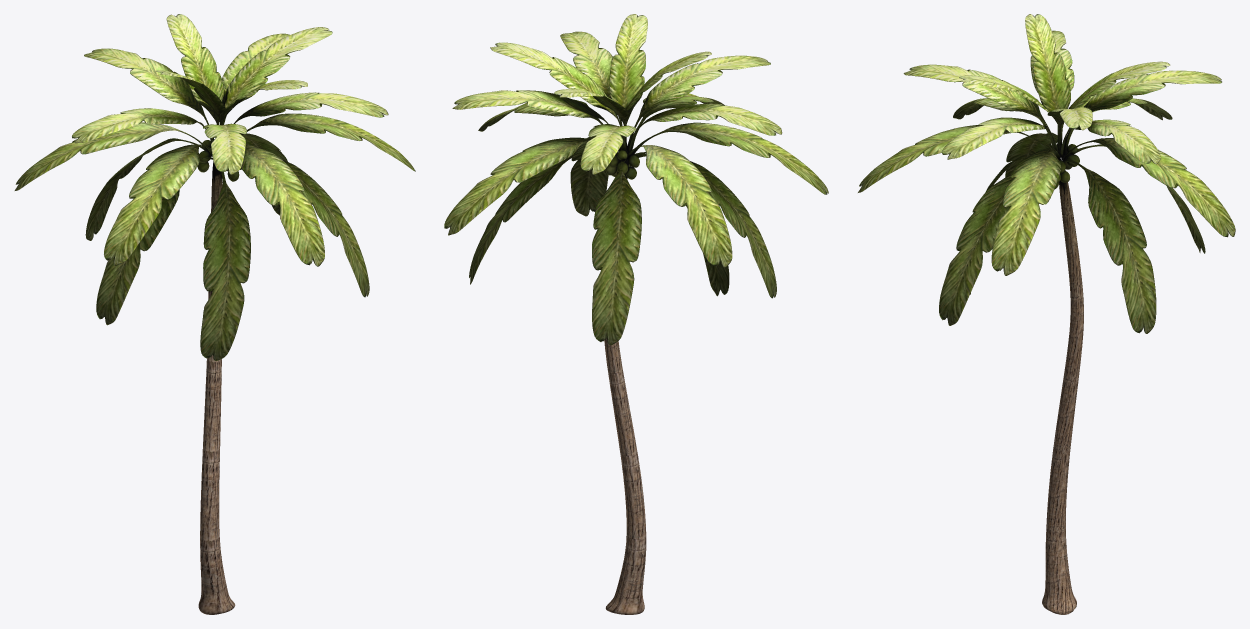
File: tree2.glb
3 views of the same model, side by side, from view 1: azimuth 30°, elevation 25°; view 2: azimuth 150°, elevation 25°; view 3: azimuth 270°, elevation 25° (orthographic).
Visible parts, largest first — view 1: 10446_Palm_Tree_v1_max2010_iteration-2; view 2: 10446_Palm_Tree_v1_max2010_iteration-2; view 3: 10446_Palm_Tree_v1_max2010_iteration-2.
Part boxes in pixels (<box>): 10446_Palm_Tree_v1_max2010_iteration-2: <box>14,14,415,614</box>; 10446_Palm_Tree_v1_max2010_iteration-2: <box>444,14,828,614</box>; 10446_Palm_Tree_v1_max2010_iteration-2: <box>858,14,1235,614</box>.
Bounding box in the file's own units: 466 × 766 × 470.
1 material, 1 textured.
